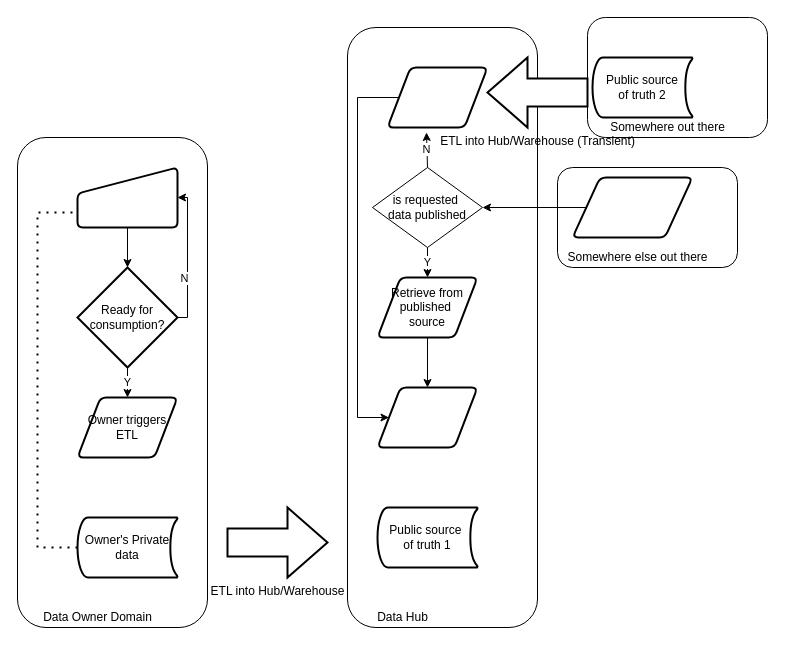
Image size: 785x645. Some labels were removed from this diagram. Each missing label, with the box of its shape:
Client requests data: (571, 176, 693, 238)
ETL data from external source: (386, 66, 488, 128)
Owner Edits Data: (76, 166, 178, 228)
Send data to client: (376, 386, 478, 448)
